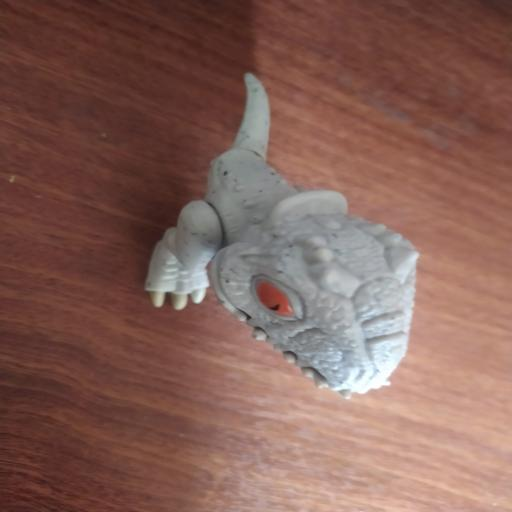Dinosaurio: (134, 64, 428, 404)
